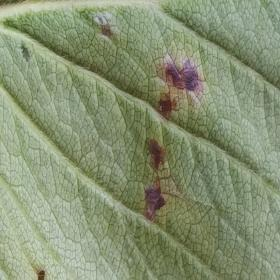Angular Leafspot: (18, 10, 207, 228)
